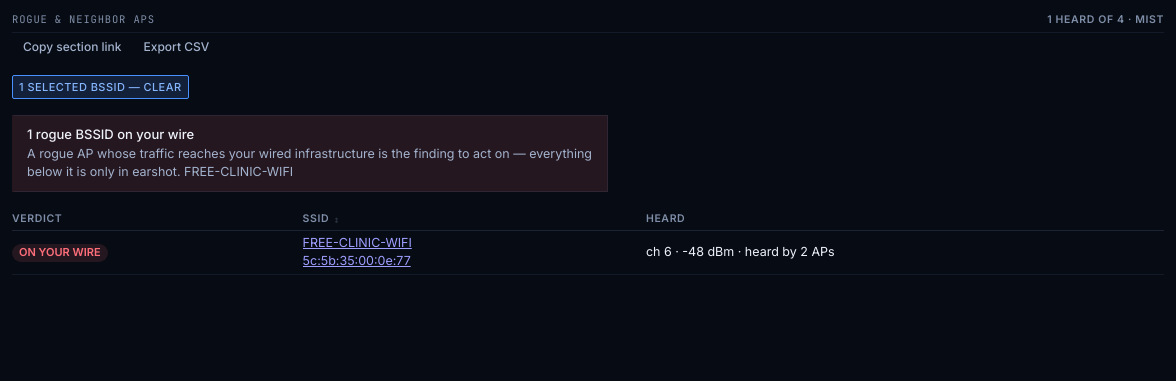
Test: SiteRogueAps bulk (Loop 193) › deep-links ?bssids= and shows a clearable selection chip
Check: the text "FREE-CLINIC-WIFI" is shown, box [303,236,412,250]
Check: the text "MRDN-Clinical" is not shown
Click the button "1 selected BSSID — clear" at [100, 87], box [12,75,188,99]
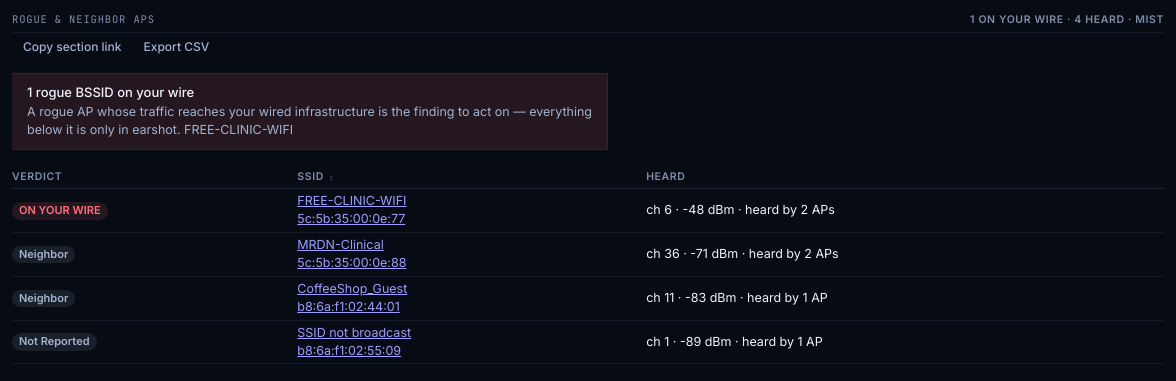
Check: the text "MRDN-Clinical" is shown, box [297,237,384,252]
